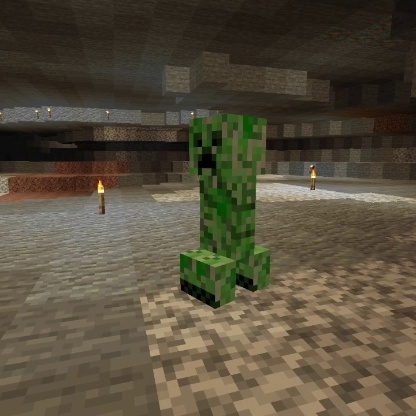creeper: (176, 110, 273, 312)
